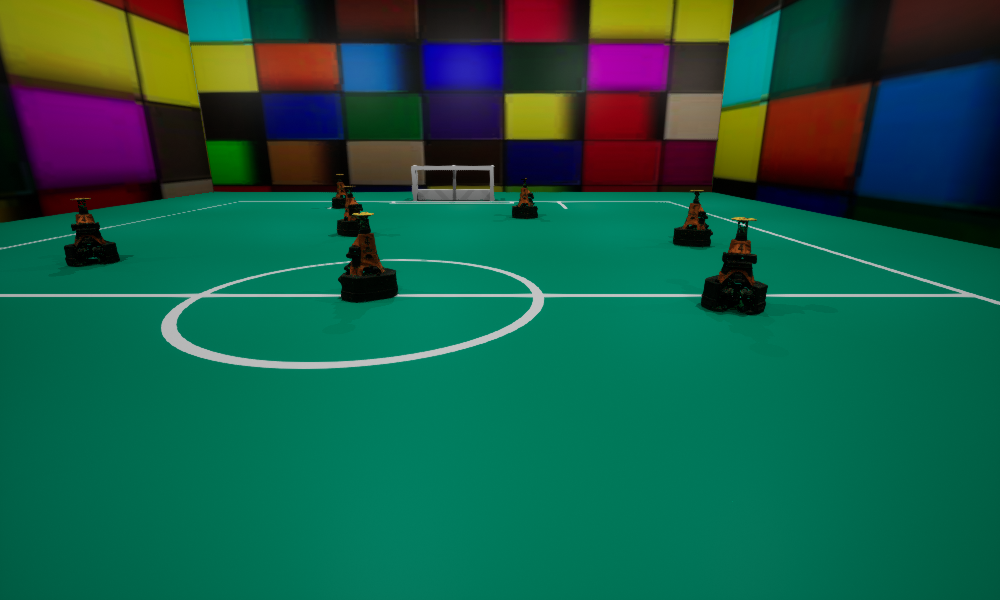0 orange robot TechUnited: (701, 217, 767, 313), (338, 212, 397, 301), (64, 198, 119, 266), (673, 190, 712, 246), (337, 186, 370, 236), (512, 178, 537, 218), (332, 174, 351, 208)
